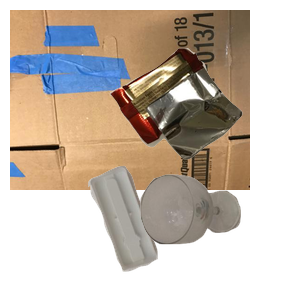cardboard: (10, 10, 250, 190)
glass: (138, 172, 300, 300)
plastic: (85, 163, 235, 300)
trash: (107, 46, 300, 198)
